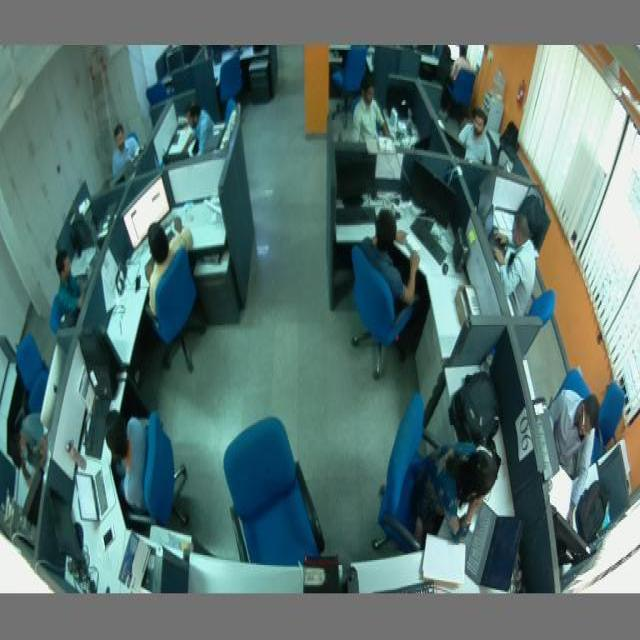chair: (212, 404, 332, 578), (365, 382, 447, 555), (338, 242, 427, 383), (137, 250, 228, 378), (128, 401, 200, 542), (550, 358, 606, 462), (506, 277, 568, 358), (328, 45, 381, 113), (598, 377, 634, 471), (209, 52, 264, 111), (10, 326, 57, 386), (441, 60, 482, 120), (142, 74, 176, 113)
keyboard: (409, 210, 455, 272), (329, 195, 386, 232), (362, 574, 446, 596)
laptop: (462, 489, 524, 598), (67, 454, 124, 526)
monitor: (32, 448, 94, 582), (112, 173, 195, 255), (402, 151, 464, 247), (329, 144, 384, 214)
person: (542, 387, 600, 535), (414, 447, 498, 543), (358, 212, 424, 306), (144, 210, 193, 323), (104, 408, 148, 514), (493, 215, 537, 317), (8, 408, 49, 488), (350, 78, 394, 145), (54, 246, 92, 316), (182, 96, 222, 162), (456, 110, 494, 165), (108, 122, 138, 178)
phone: (95, 520, 121, 555), (130, 266, 144, 297)
